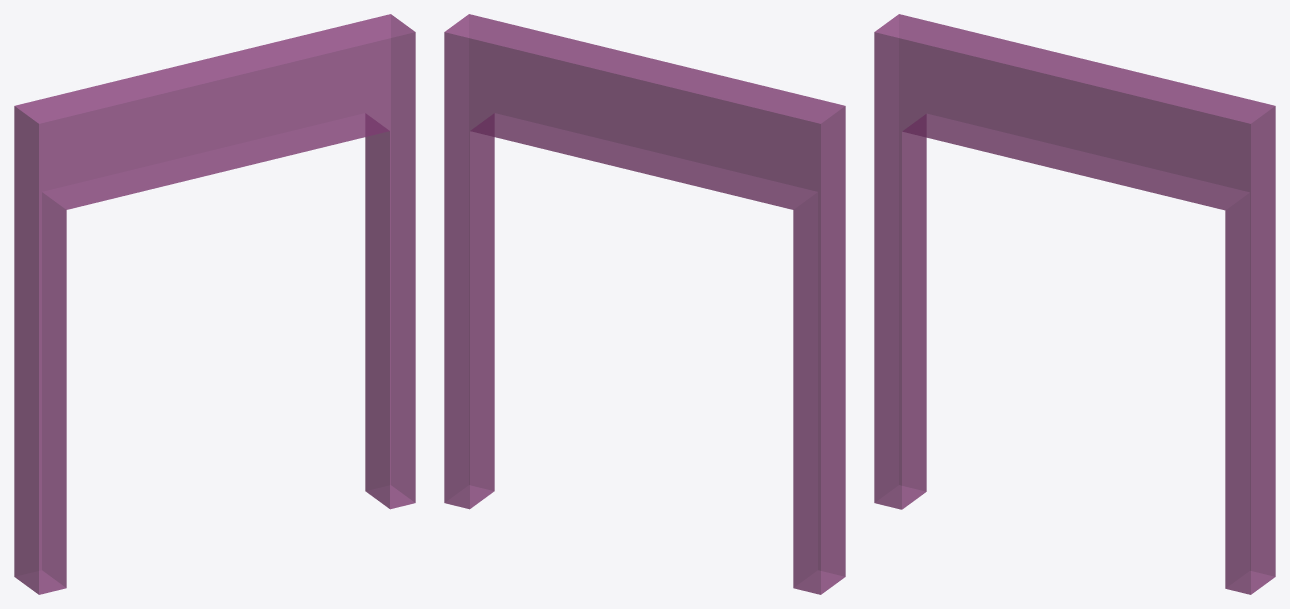
Rendered from SM_Bld_Base_Wall_Door_Double_Large_01_Collision.fbx.
The picture shows the model from 3 angles, left to right: view 1: azimuth 30°, elevation 25°; view 2: azimuth 150°, elevation 25°; view 3: azimuth 330°, elevation 25°; orthographic projection.
Parts seen in each view (by area): view 1: SM_Bld_Base_Wall_Door_Double_Large_01_Collision; view 2: SM_Bld_Base_Wall_Door_Double_Large_01_Collision; view 3: SM_Bld_Base_Wall_Door_Double_Large_01_Collision.
Part boxes in pixels (x1,y1,x2,y2): SM_Bld_Base_Wall_Door_Double_Large_01_Collision: (14,14,415,594); SM_Bld_Base_Wall_Door_Double_Large_01_Collision: (444,14,845,594); SM_Bld_Base_Wall_Door_Double_Large_01_Collision: (874,14,1275,594).
Size of the model in its own units: 254 by 304 by 28.91.
